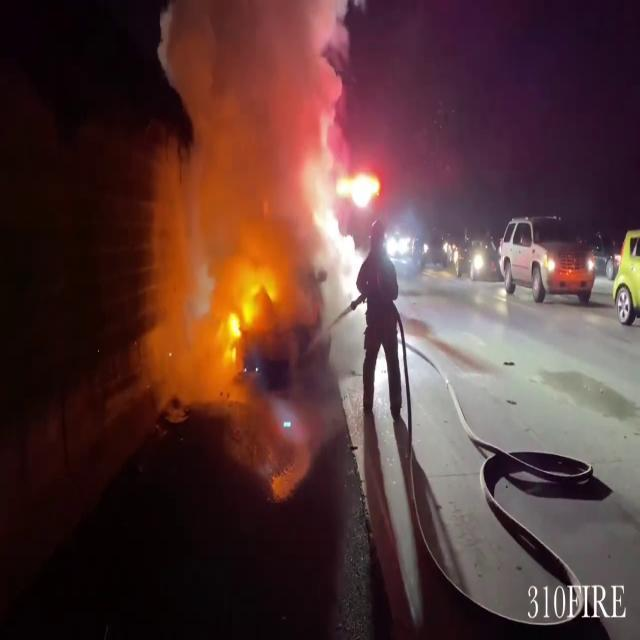Fire: (220, 295, 252, 369)
Smoke: (142, 1, 360, 294)
